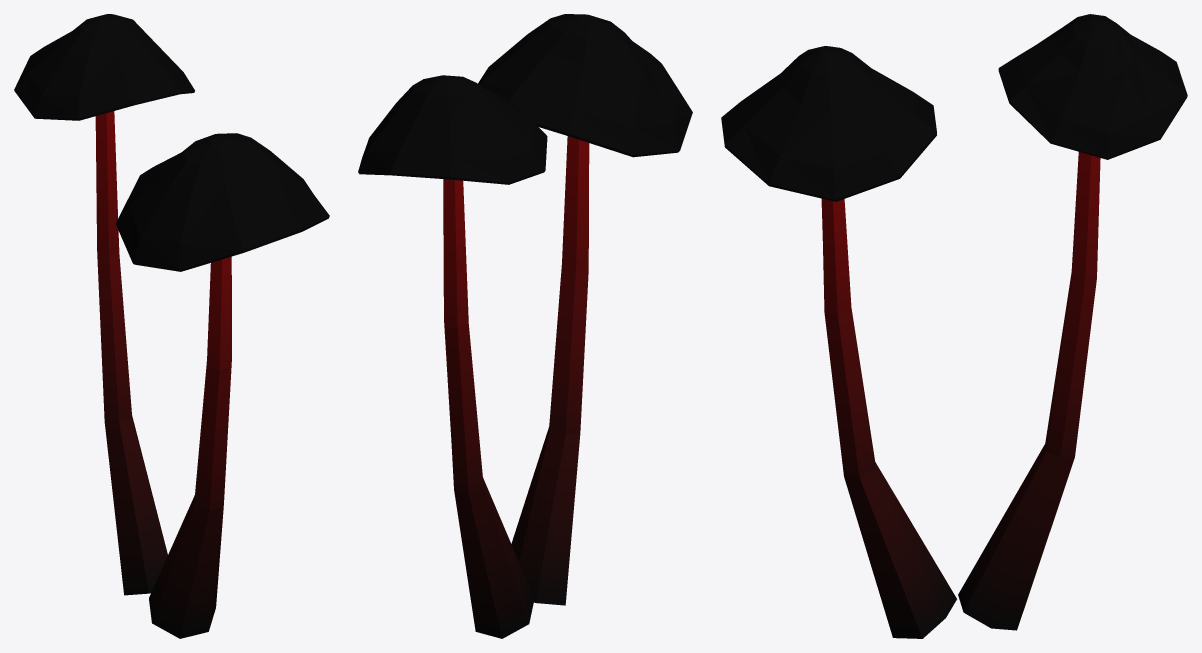
Rendered from FungiUmbona01.fbx.
The picture shows the model from 3 angles, left to right: view 1: azimuth 30°, elevation 25°; view 2: azimuth 150°, elevation 25°; view 3: azimuth 270°, elevation 25°; orthographic projection. The views are drawn at different scales.
Parts seen in each view (by area): view 1: FungiUmbona01; view 2: FungiUmbona01; view 3: FungiUmbona01.
Boxes of the visible parts, x1=… form: FungiUmbona01: x1=14, y1=14, x2=329, y2=638; FungiUmbona01: x1=358, y1=14, x2=692, y2=638; FungiUmbona01: x1=721, y1=14, x2=1187, y2=638.
Size of the model in its own units: 9.81 by 27.78 by 19.2.
